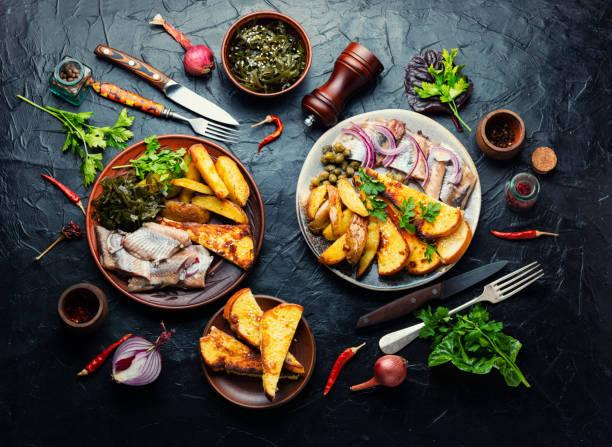Braised Crucian Carp: (295, 108, 479, 290), (91, 135, 266, 305), (203, 293, 309, 406), (223, 9, 311, 98)
